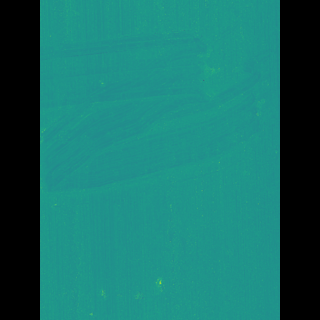Loch: (68, 20, 244, 204)
